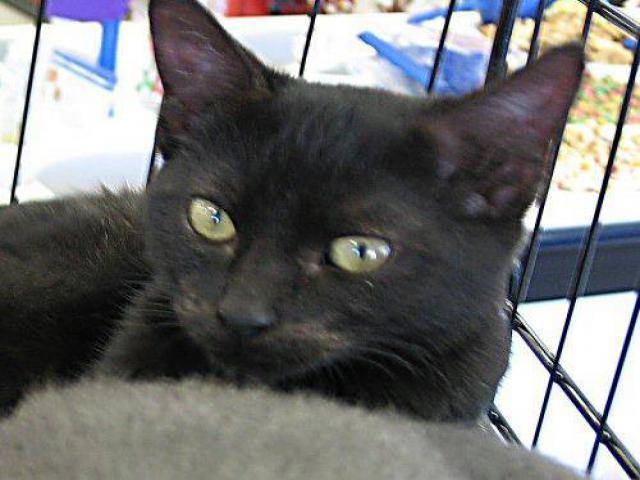cat: (1, 30, 593, 457)
